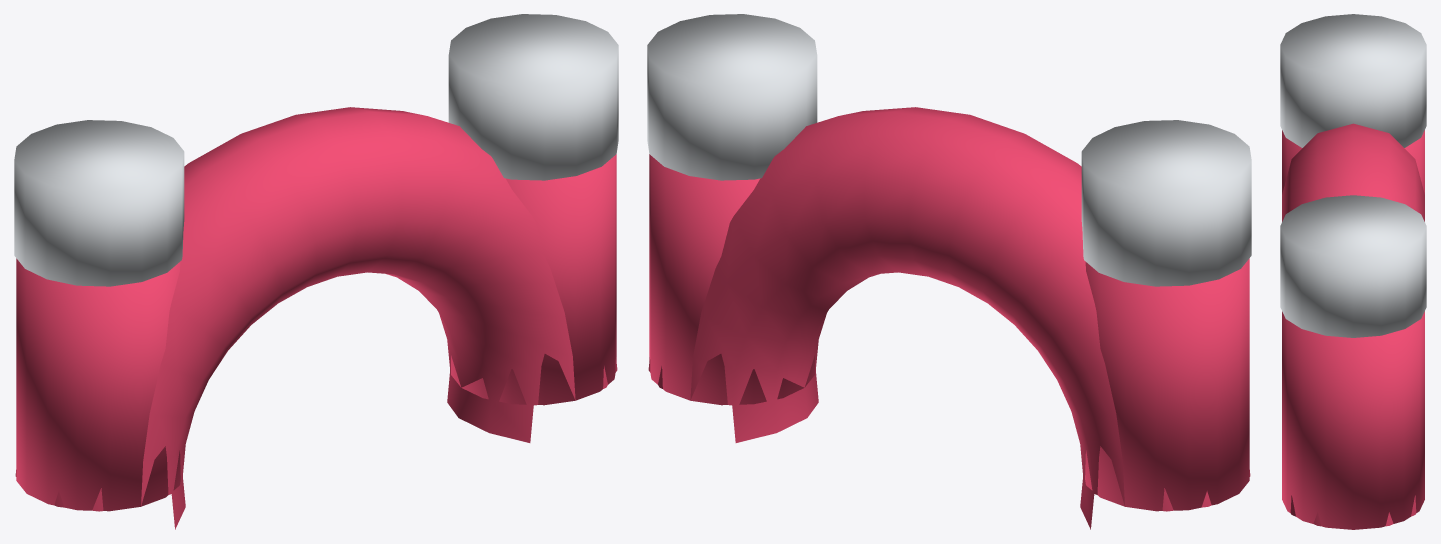
The model's file is magnet.glb.
The picture shows the model from 3 angles, left to right: view 1: azimuth 30°, elevation 25°; view 2: azimuth 150°, elevation 25°; view 3: azimuth 270°, elevation 25°; orthographic projection. The views are drawn at different scales.
Visible parts, largest first — view 1: magnet; view 2: magnet; view 3: magnet.
Part boxes in pixels (x1=…): magnet: x1=14, y1=14, x2=618, y2=529; magnet: x1=647, y1=14, x2=1251, y2=529; magnet: x1=1280, y1=14, x2=1426, y2=529.
Bounding box in the file's own units: 0.161 × 0.0943 × 0.041.
